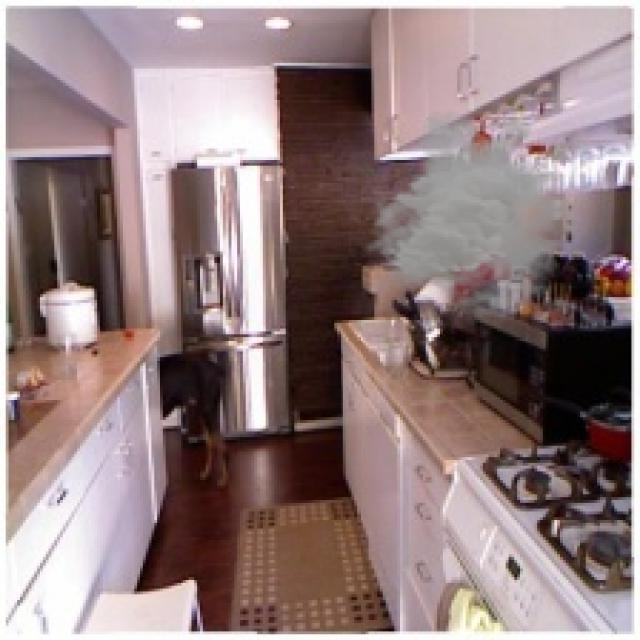Smoke: (363, 108, 591, 320)
